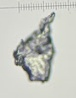microplastic: (13, 12, 55, 83)
